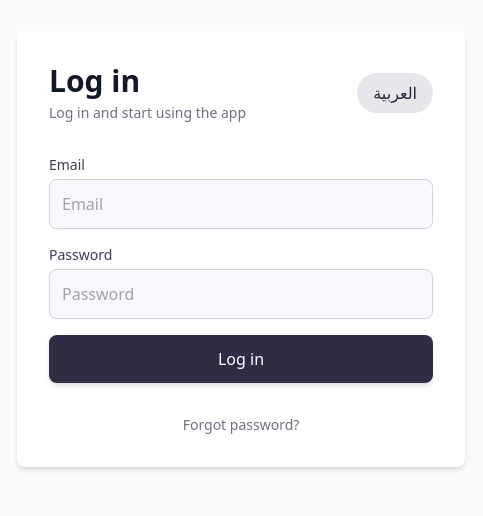
Test: Login Page › displays validation error for invalid email format
In the field named "email": (241, 204) left=49, top=179, right=433, bottom=229, type "invalid@email"
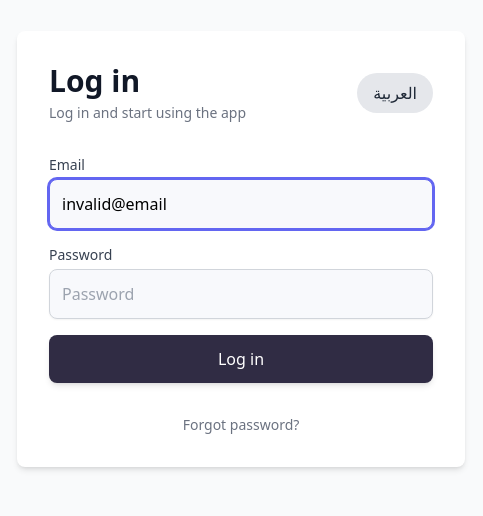
In the password field named "password": (241, 294) left=49, top=269, right=433, bottom=319, type "password123"
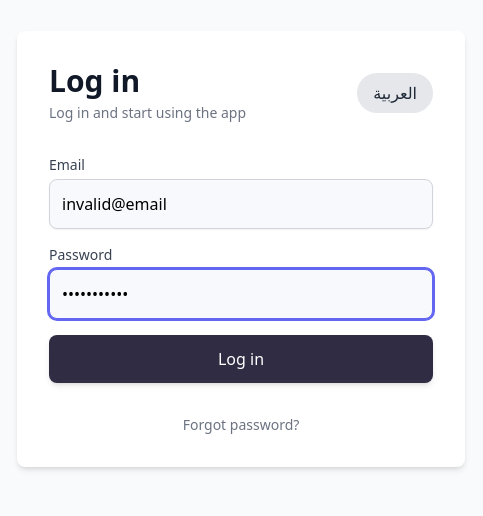
Click the submit button: click(241, 359) left=49, top=335, right=433, bottom=383
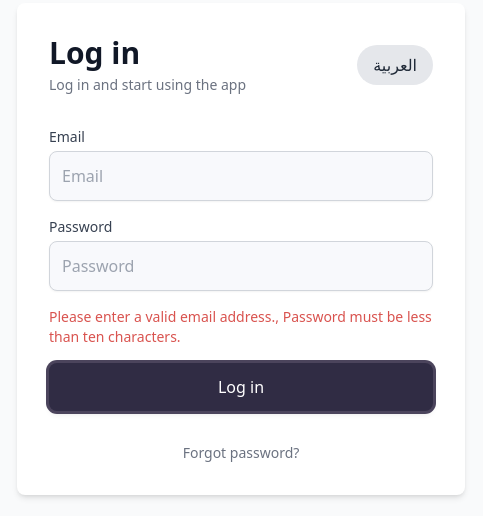
Result: the text "Please enter a valid email address." is shown at left=49, top=307, right=432, bottom=346
